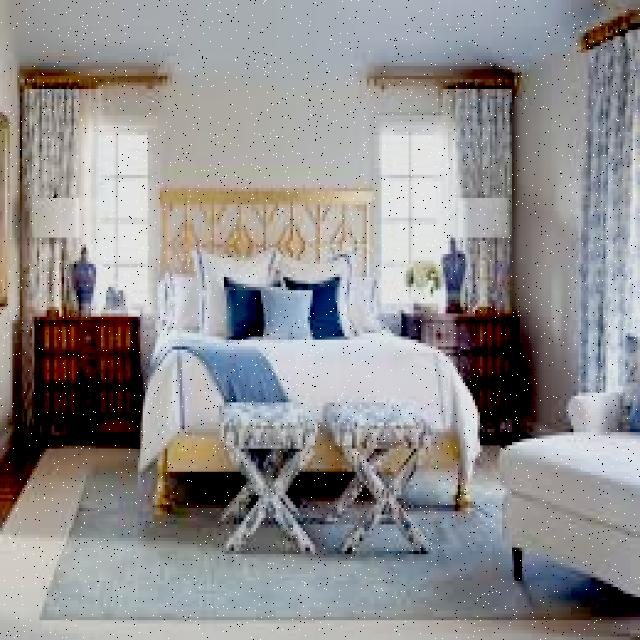bed: (140, 245, 458, 407)
